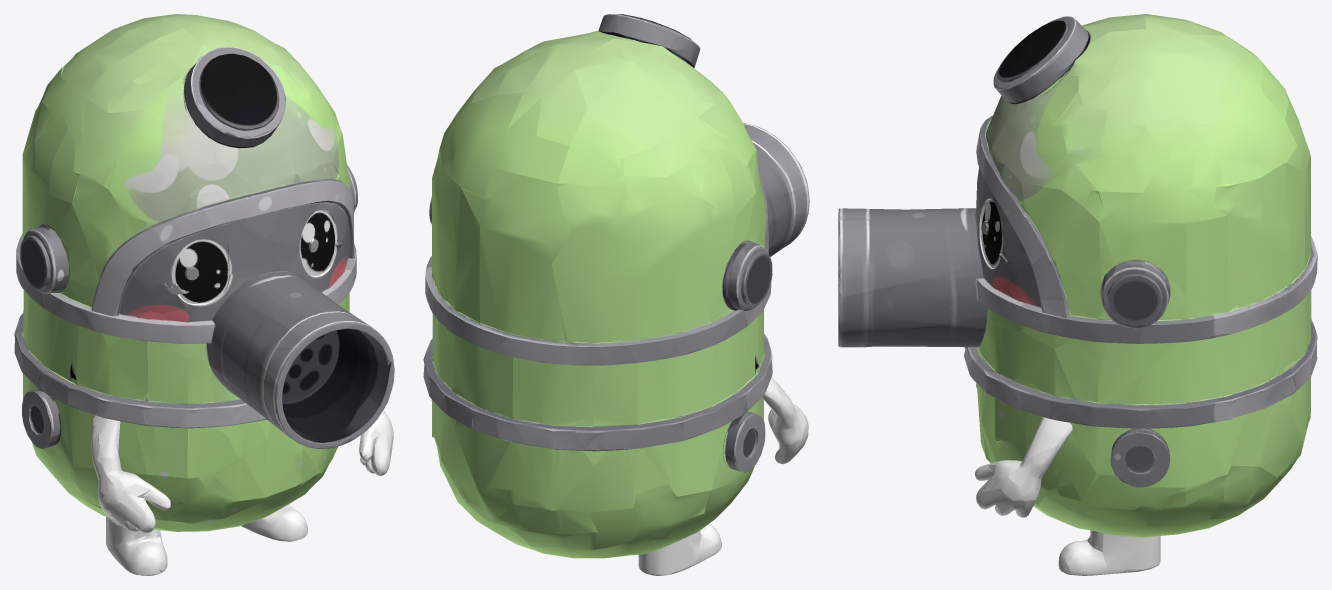
File: EcoPix.fbx
3 renders of one model, left to right at view 1: azimuth 30°, elevation 25°; view 2: azimuth 150°, elevation 25°; view 3: azimuth 270°, elevation 25°, orthographic.
Parts seen in each view (by area): view 1: output_unwrapped; view 2: output_unwrapped; view 3: output_unwrapped.
Boxes of the visible parts, bbox=[...] form: output_unwrapped: bbox=[14, 14, 394, 575]; output_unwrapped: bbox=[423, 14, 809, 575]; output_unwrapped: bbox=[838, 14, 1317, 575].
Size of the model in its own units: 64.65 by 100 by 85.21.
Materials: 1 (1 with a texture image).
